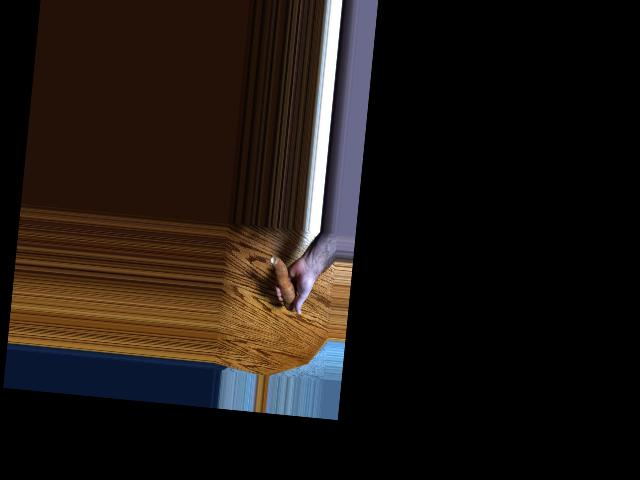sweet_potato: (265, 253, 300, 309)
